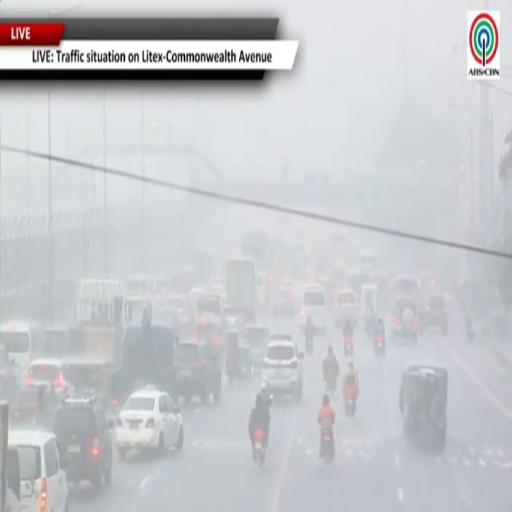car: (53, 397, 113, 492), (116, 386, 184, 458), (9, 430, 68, 511), (399, 365, 447, 453), (175, 341, 221, 405), (262, 336, 303, 402), (62, 358, 110, 408), (10, 387, 58, 427), (26, 359, 71, 397), (391, 297, 419, 342), (301, 284, 327, 332), (243, 324, 269, 372), (421, 293, 448, 333), (0, 345, 18, 399), (334, 290, 360, 327), (195, 294, 223, 328), (165, 295, 191, 331), (273, 287, 297, 316)
motorcycle: (321, 427, 335, 463), (254, 428, 265, 468), (345, 386, 356, 418), (324, 369, 337, 393), (374, 332, 386, 358), (365, 317, 375, 339), (344, 335, 353, 357), (305, 334, 314, 355), (466, 326, 474, 342)
truck: (76, 279, 131, 367), (0, 402, 21, 511), (225, 258, 255, 319)
